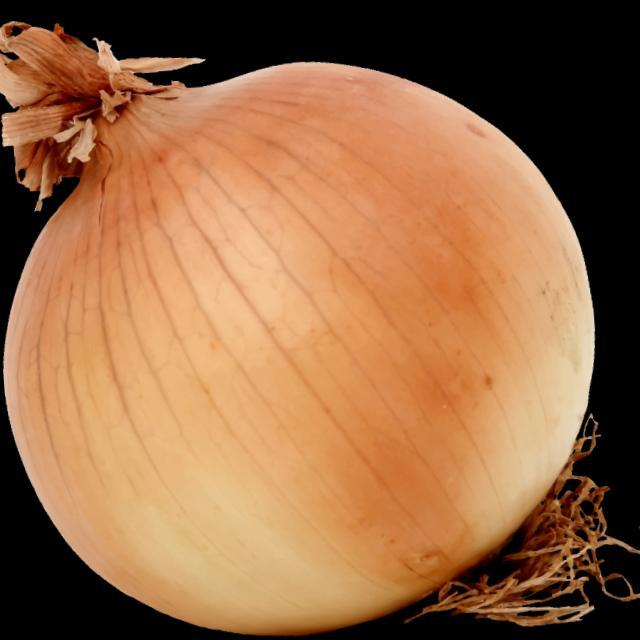ONIONS: (0, 5, 623, 640)
